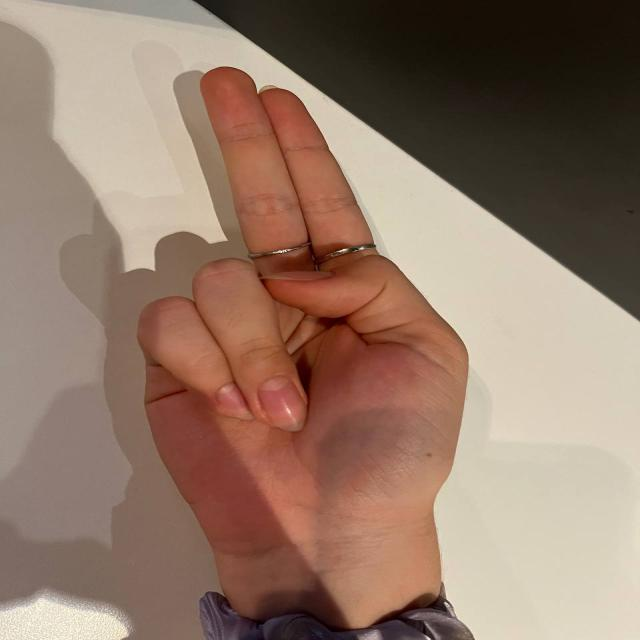ts: (107, 51, 460, 506)
